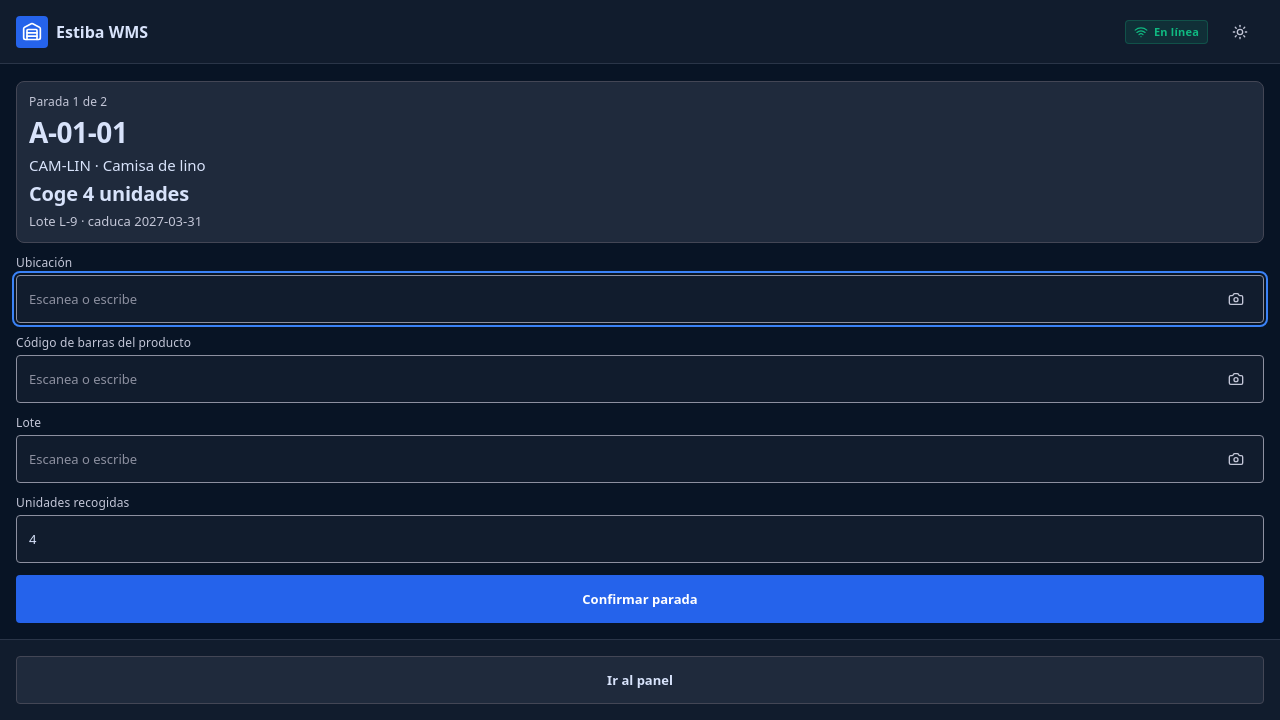
Test case: PickListPage › refuses more units than asked
The width and height of the screenshot is (1280, 720).
(page scrolled)
Expected: the text "A-01-01" is shown, [29,113,128,151]
Replace the text in the number field labelled "Unidades recogidas" with "9" at (640, 539), box [16,515,1264,563]
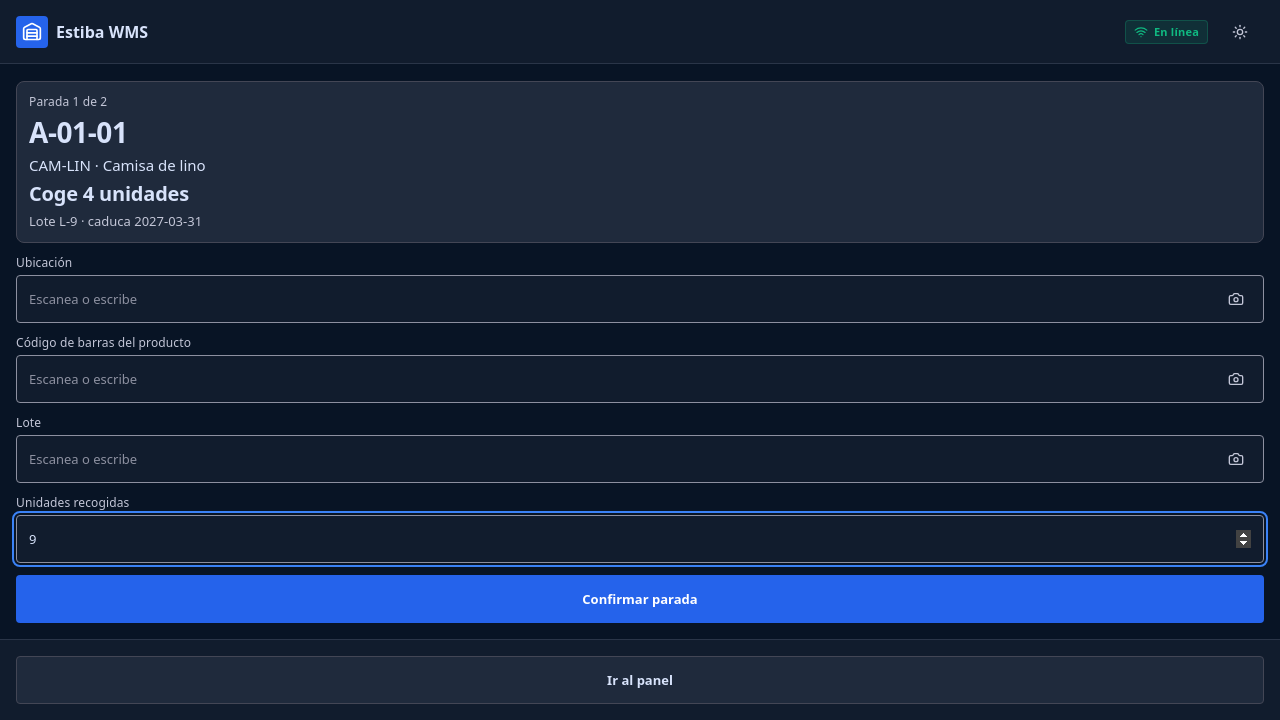
Click the button "Confirmar parada".
click(640, 599)  # box [16,575,1264,623]
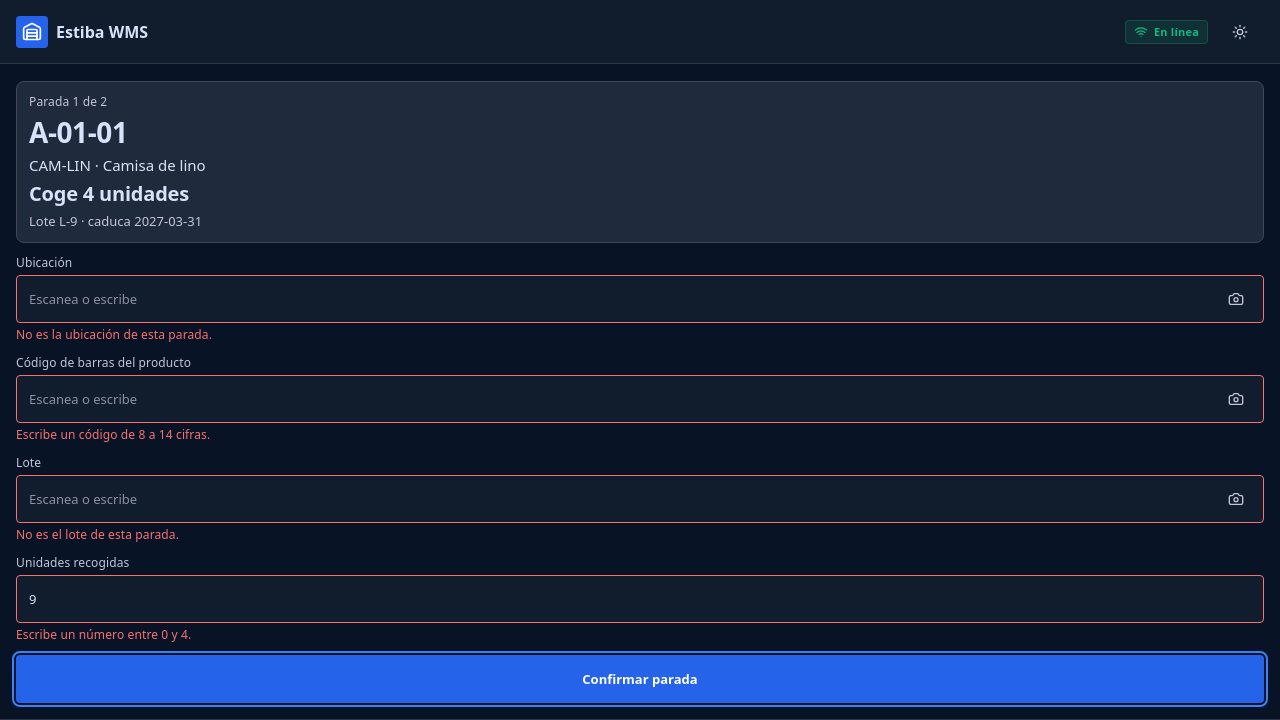
Expected: the text "Escribe un número entre 0 y 4." is shown, [16,626,191,643]
